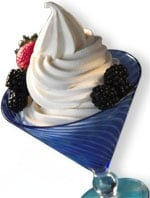curry: (1, 12, 146, 197)
soup: (22, 1, 134, 126)
